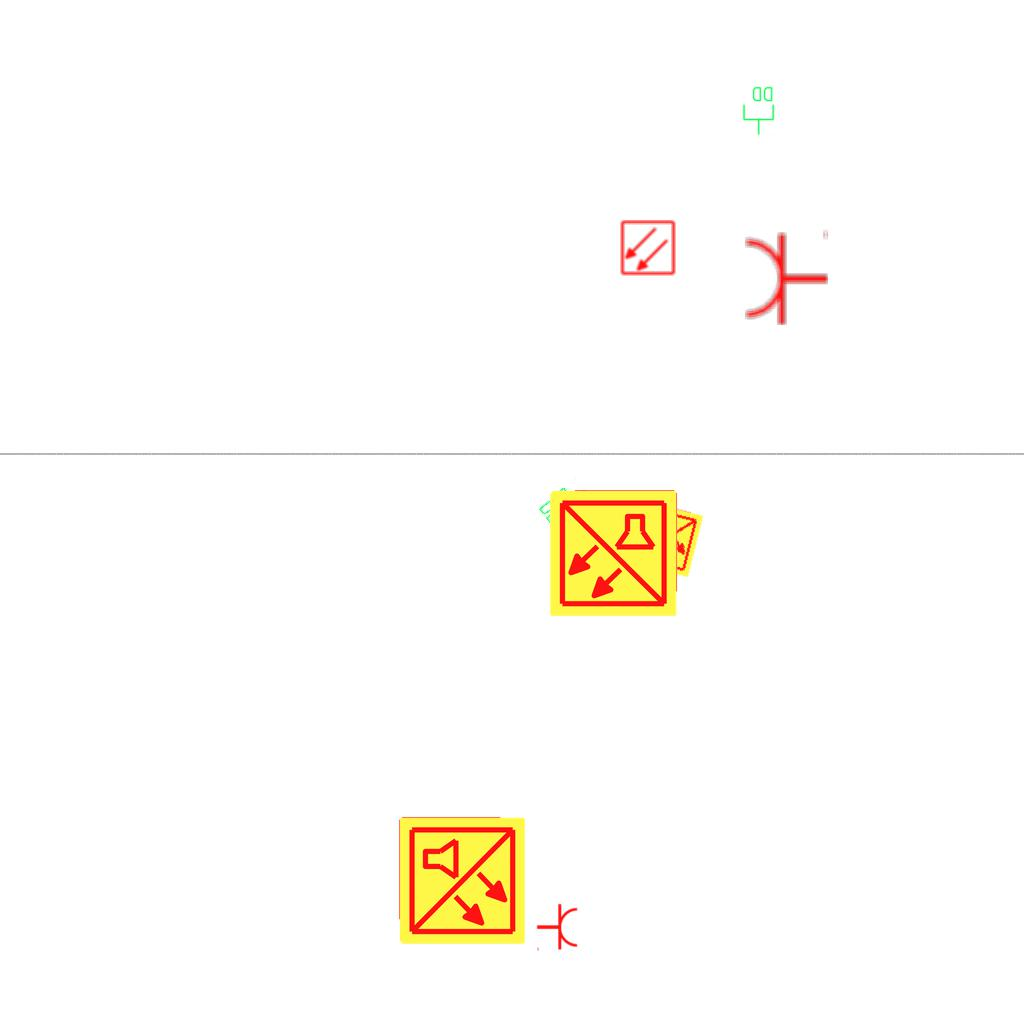Datenanschluss_zweifach: (534, 475, 597, 535), (742, 85, 776, 136)
OKW_Multisensormelder_(Kombination_optischer_Rauch-Kahlenmonoxid_Waerme-Melder): (396, 815, 528, 947), (547, 487, 679, 619), (624, 498, 706, 580)
RMO_Rauchmelder_optischer: (620, 220, 676, 276)
Schukosteckdose_einfach: (743, 227, 830, 327), (536, 903, 579, 953)
